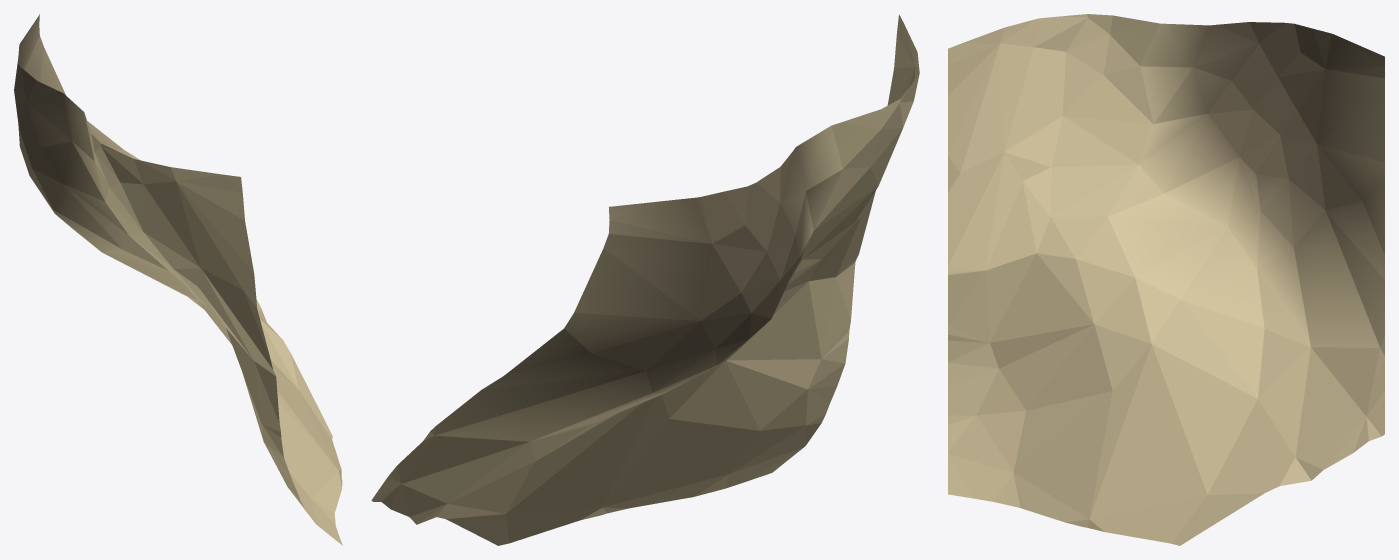
The model's file is bisect-8-2-3.gltf.
The picture shows the model from 3 angles, left to right: view 1: azimuth 30°, elevation 25°; view 2: azimuth 150°, elevation 25°; view 3: azimuth 270°, elevation 25°; orthographic projection. The views are drawn at different scales.
Visible parts, largest first — view 1: bisect-8-2-3; view 2: bisect-8-2-3; view 3: bisect-8-2-3.
Part boxes in pixels (left/top/right/bottom): bisect-8-2-3: left=14, top=14, right=342, bottom=545; bisect-8-2-3: left=371, top=14, right=919, bottom=545; bisect-8-2-3: left=948, top=14, right=1384, bottom=545.
Bounding box in the file's own units: 14.76 × 20 × 20.
